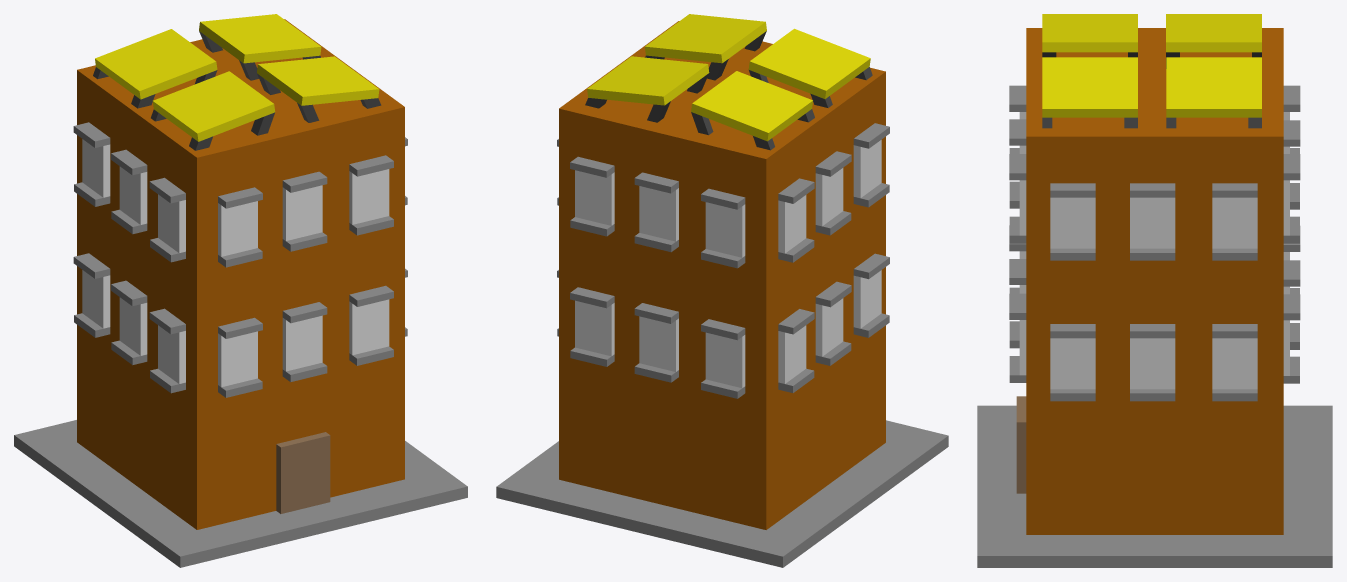
The model's file is Building1_Good.fbx.
The picture shows the model from 3 angles, left to right: view 1: azimuth 30°, elevation 25°; view 2: azimuth 150°, elevation 25°; view 3: azimuth 270°, elevation 25°; orthographic projection. The views are drawn at different scales.
Parts seen in each view (by area): view 1: Building1_Good; view 2: Building1_Good; view 3: Building1_Good.
Part boxes in pixels (<box>): Building1_Good: <box>14,14,467,567</box>; Building1_Good: <box>496,14,948,567</box>; Building1_Good: <box>977,14,1332,567</box>.
Size of the model in its own units: 5.79 by 7.92 by 5.79.
